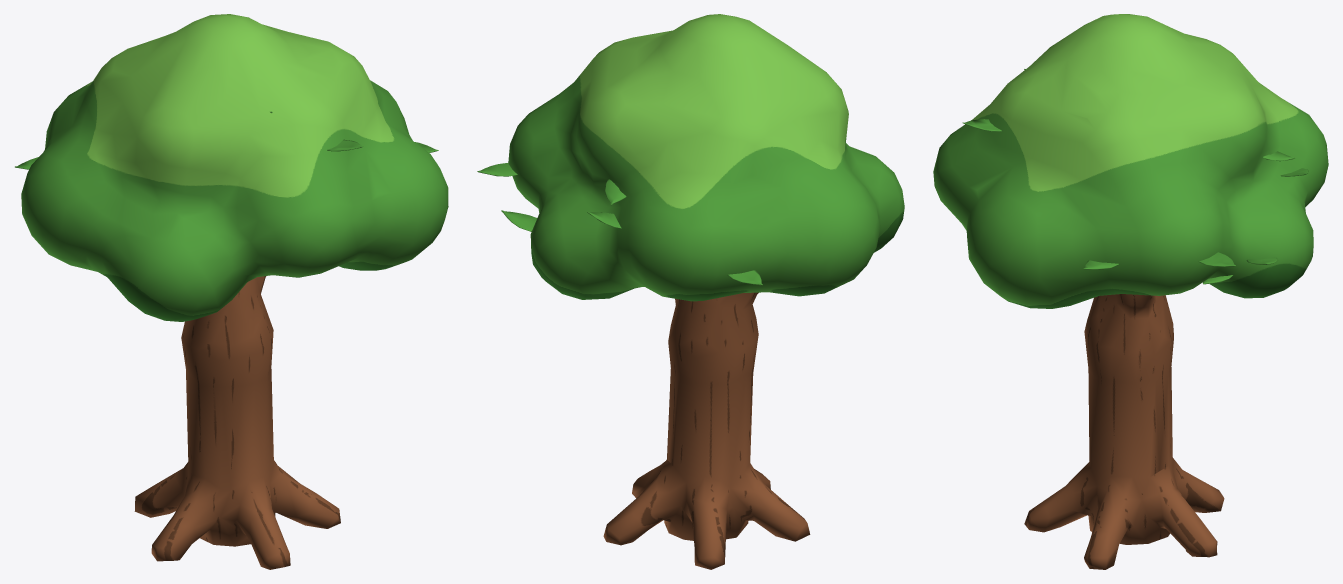
File: OakSmall.fbx
3 views of the same model, side by side, from view 1: azimuth 30°, elevation 25°; view 2: azimuth 150°, elevation 25°; view 3: azimuth 270°, elevation 25° (orthographic). The views are drawn at different scales.
Visible parts, largest first — view 1: OakSmall; view 2: OakSmall; view 3: OakSmall.
Part boxes in pixels (x1,y1,x2,y2): OakSmall: [15, 14, 448, 569]; OakSmall: [477, 14, 904, 569]; OakSmall: [933, 14, 1328, 569].
Bounding box in the file's own units: 2.77 × 3.73 × 2.65.
Materials: 1 (1 with a texture image).
